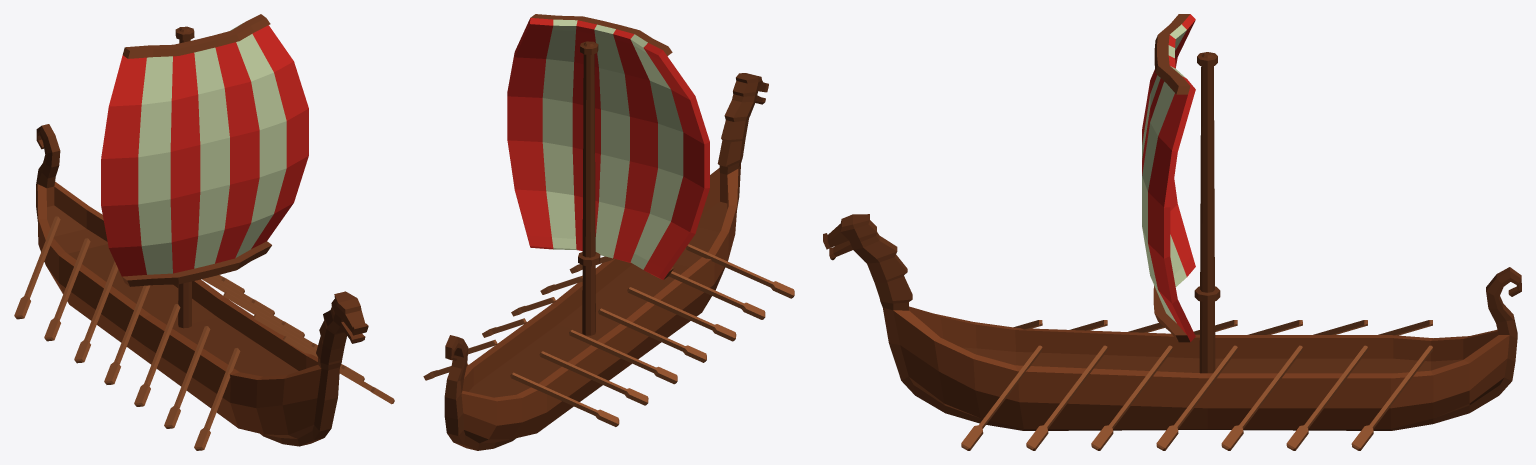
The model's file is Viking_Boat.glb.
The picture shows the model from 3 angles, left to right: view 1: azimuth 30°, elevation 25°; view 2: azimuth 150°, elevation 25°; view 3: azimuth 270°, elevation 25°; orthographic projection. The views are drawn at different scales.
Parts seen in each view (by area): view 1: Sail, Viking_Ship; view 2: Viking_Ship, Sail; view 3: Viking_Ship, Sail.
Boxes of the visible parts, x1=… form: Sail: x1=101, y1=14, x2=308, y2=286; Viking_Ship: x1=14, y1=26, x2=394, y2=450; Viking_Ship: x1=423, y1=41, x2=794, y2=450; Sail: x1=507, y1=14, x2=709, y2=279; Viking_Ship: x1=823, y1=52, x2=1521, y2=450; Sail: x1=1142, y1=14, x2=1195, y2=342.
Bounding box in the file's own units: 157 × 251 × 420.
